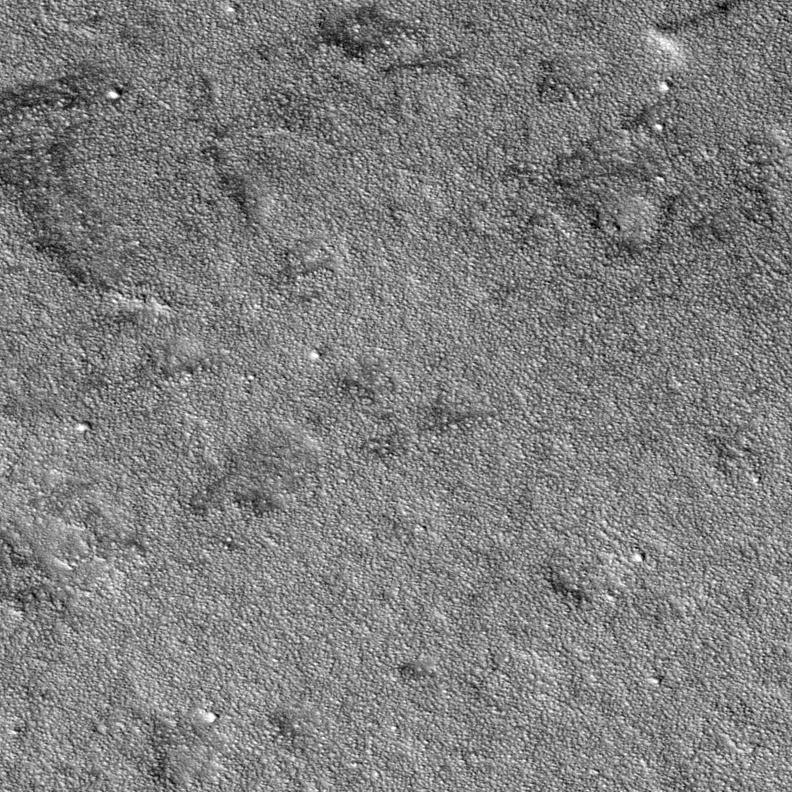dust_devil: (645, 1, 744, 69)
